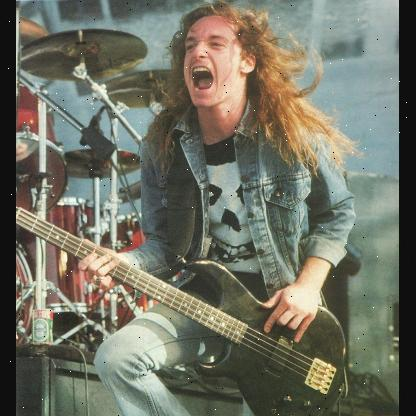bass: (16, 203, 350, 416)
